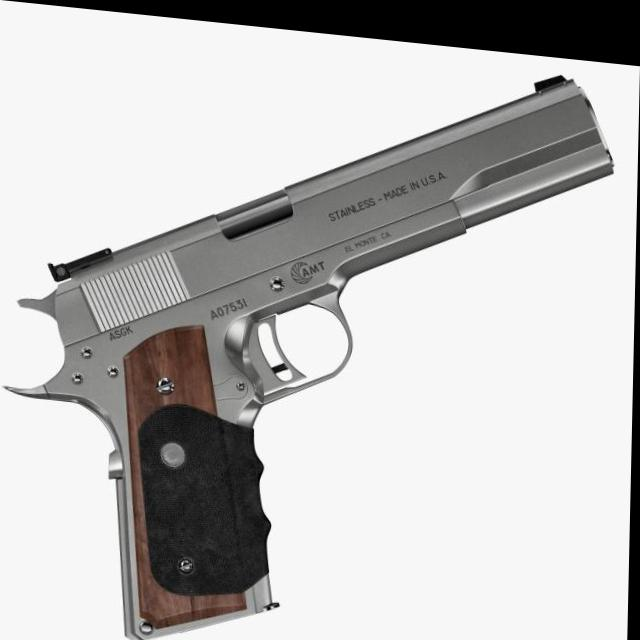handgun: (6, 17, 617, 640)
